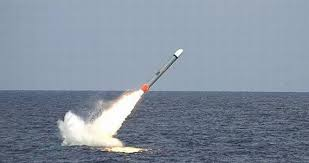ten_lua: (136, 38, 184, 92)
